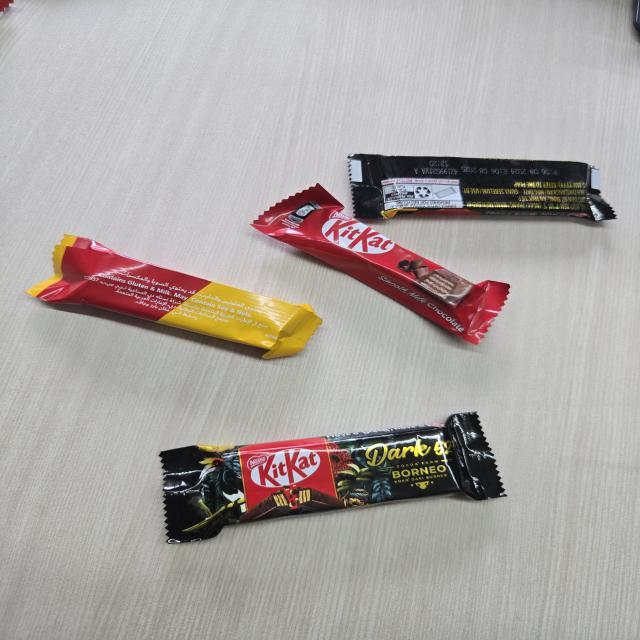chocolate-bar: (156, 410, 510, 547), (244, 180, 511, 349), (23, 228, 324, 369), (339, 147, 617, 230)
